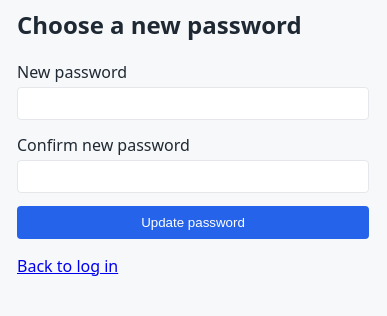
Test: ResetPasswordPage › blocks submit when the passwords do not match (negative, AC-3)
This screenshot has width=387, height=316.
In the password field labelled "New password": (193, 103) [17,87,369,120], type "new-password1"
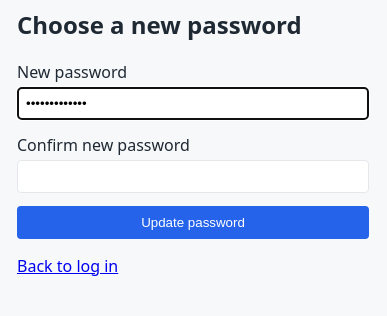
In the password field labelled "Confirm new password": (193, 176) [17,160,369,192], type "different1"
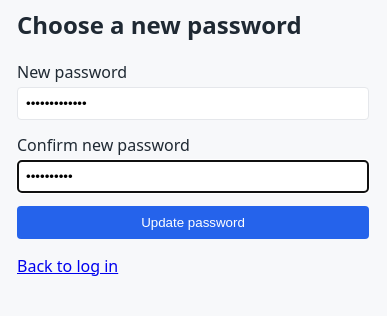
Click the button "Update password": (193, 222) [17,206,369,239]
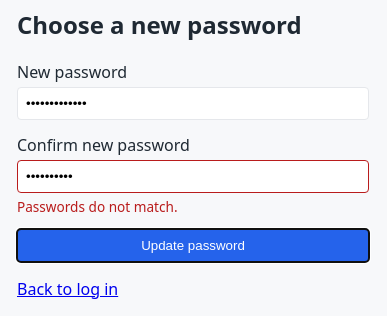
Now the text "Passwords do not match." is shown, box [17,196,178,216]
